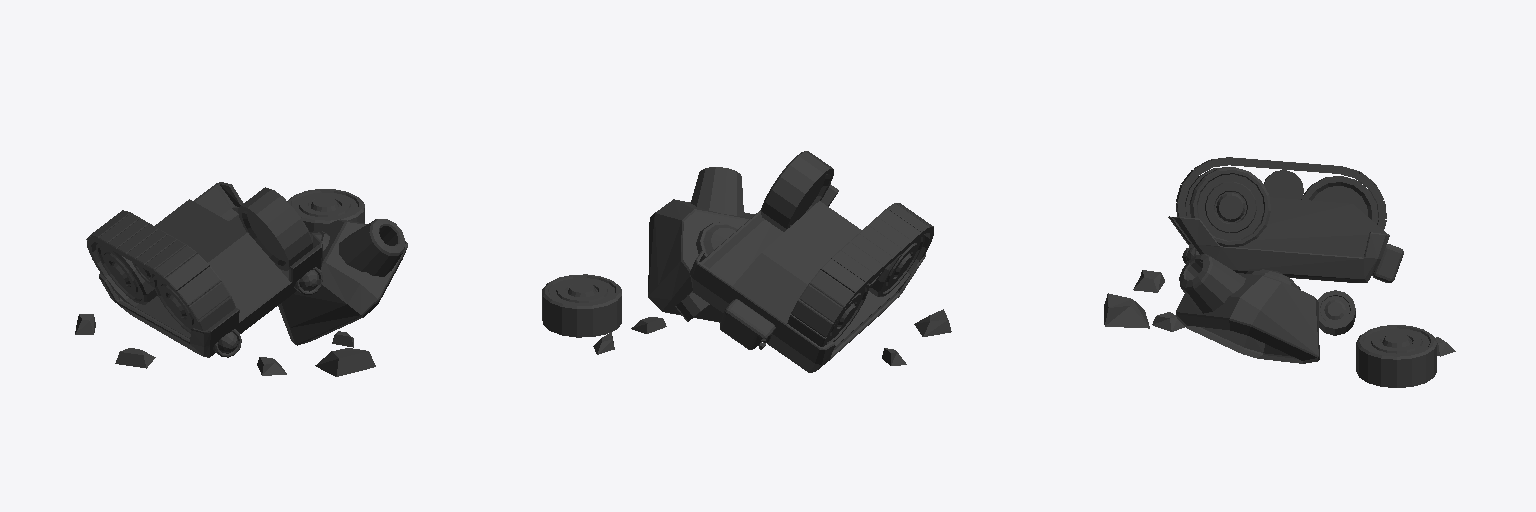
The model's file is bustedtank.obj.
The picture shows the model from 3 angles: view 1: azimuth 30°, elevation 25°; view 2: azimuth 150°, elevation 25°; view 3: azimuth 270°, elevation 25°; orthographic projection.
Visible parts, largest first — view 1: BustedTank; view 2: BustedTank; view 3: BustedTank.
Boxes of the visible parts, x1=… form: BustedTank: x1=75, y1=182, x2=407, y2=376; BustedTank: x1=542, y1=151, x2=951, y2=372; BustedTank: x1=1104, y1=157, x2=1455, y2=387.
Bounding box in the file's own units: 4.06 × 2.04 × 3.82.